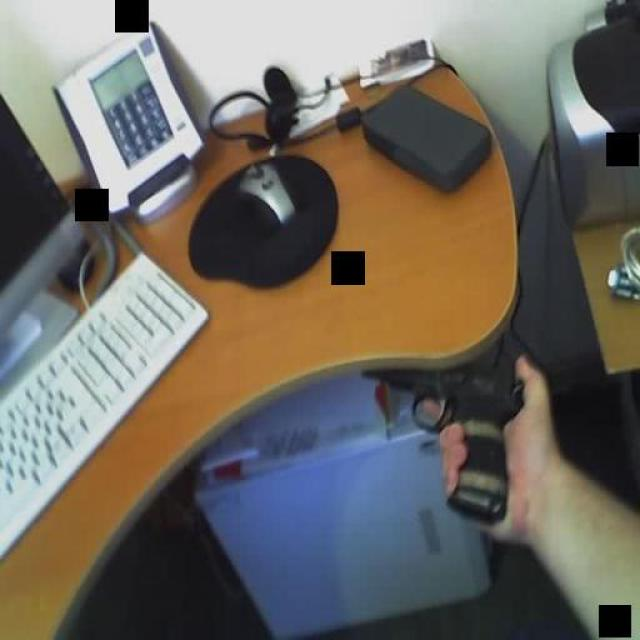gun: (359, 345, 521, 526)
